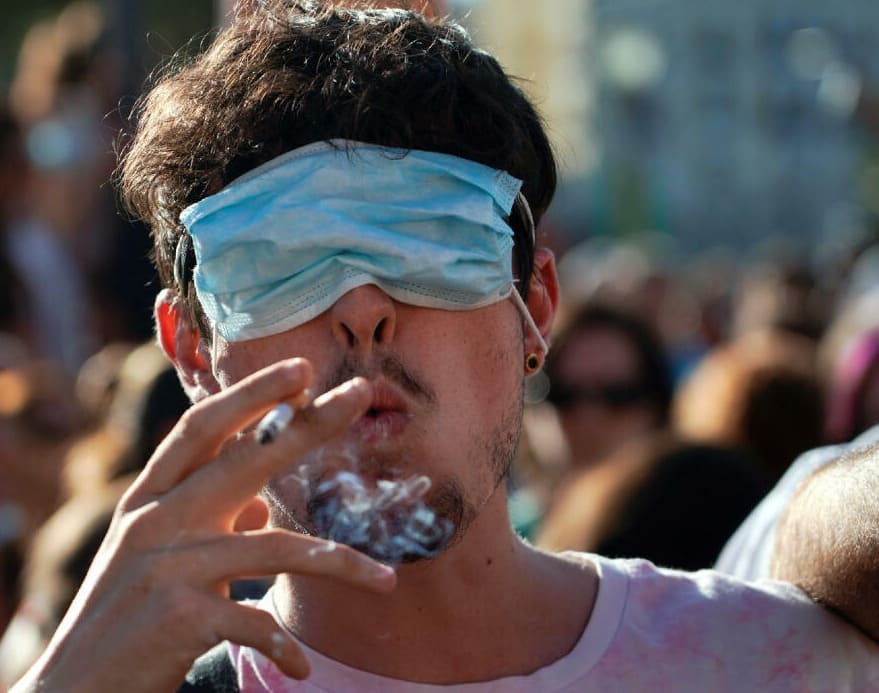with_mask: (186, 131, 540, 555)
